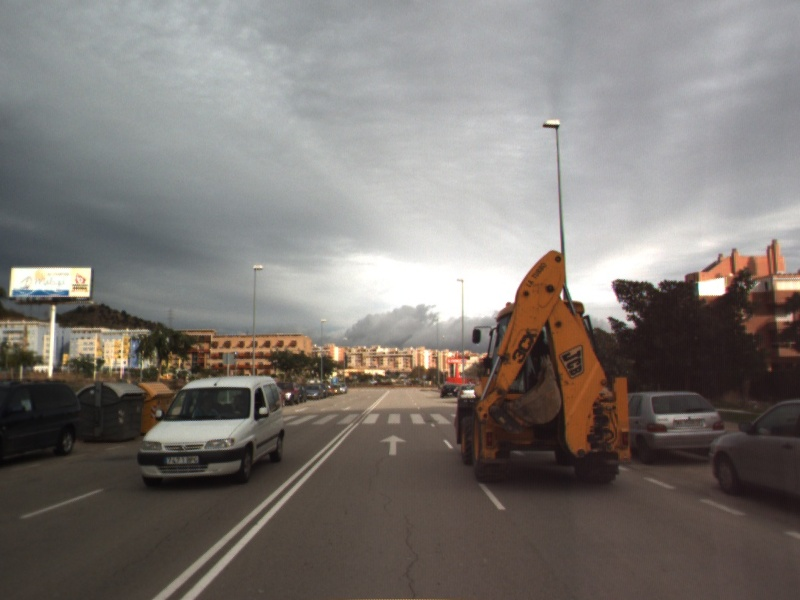STRAIGHT: (378, 433, 409, 457)
